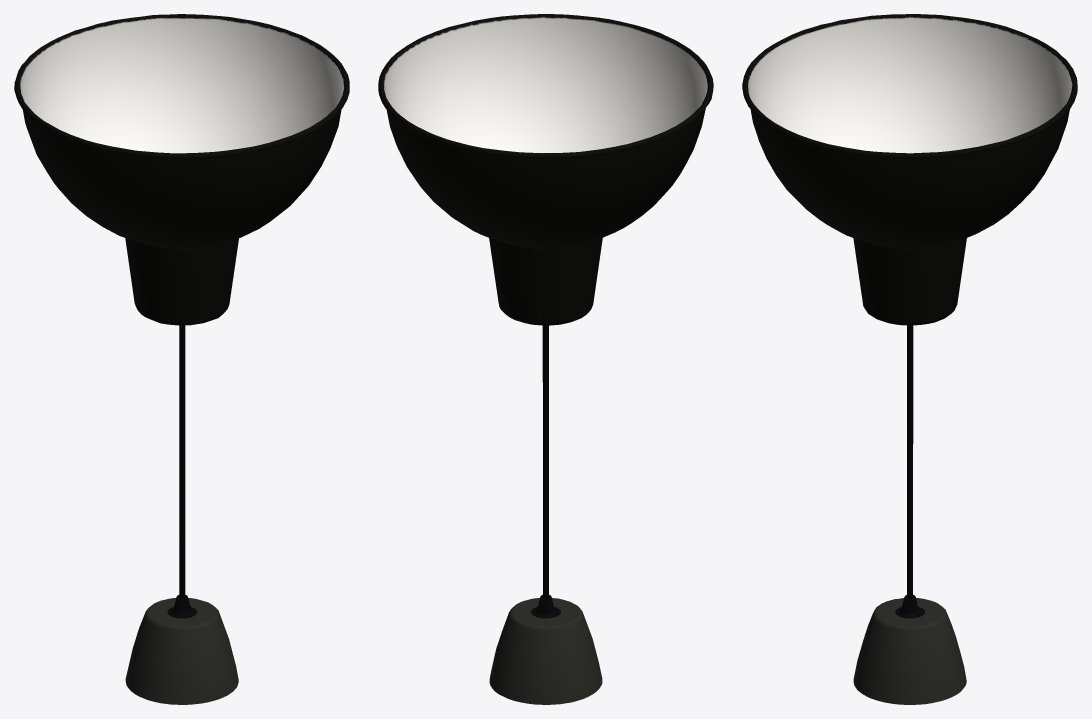
Rendered from skurup_lampa_wiszaca_80407114.glb.
3 views of the same model, side by side, from view 1: azimuth 30°, elevation 25°; view 2: azimuth 150°, elevation 25°; view 3: azimuth 270°, elevation 25° (orthographic).
Visible parts, largest first — view 1: skurup_lampa_wiszaca_80407114; view 2: skurup_lampa_wiszaca_80407114; view 3: skurup_lampa_wiszaca_80407114.
Boxes of the visible parts, bbox=[...] form: skurup_lampa_wiszaca_80407114: bbox=[14, 14, 349, 704]; skurup_lampa_wiszaca_80407114: bbox=[378, 14, 713, 704]; skurup_lampa_wiszaca_80407114: bbox=[742, 14, 1077, 704].
Size of the model in its own units: 0.3921 by 0.7707 by 0.3922.
1 material, 1 textured.
